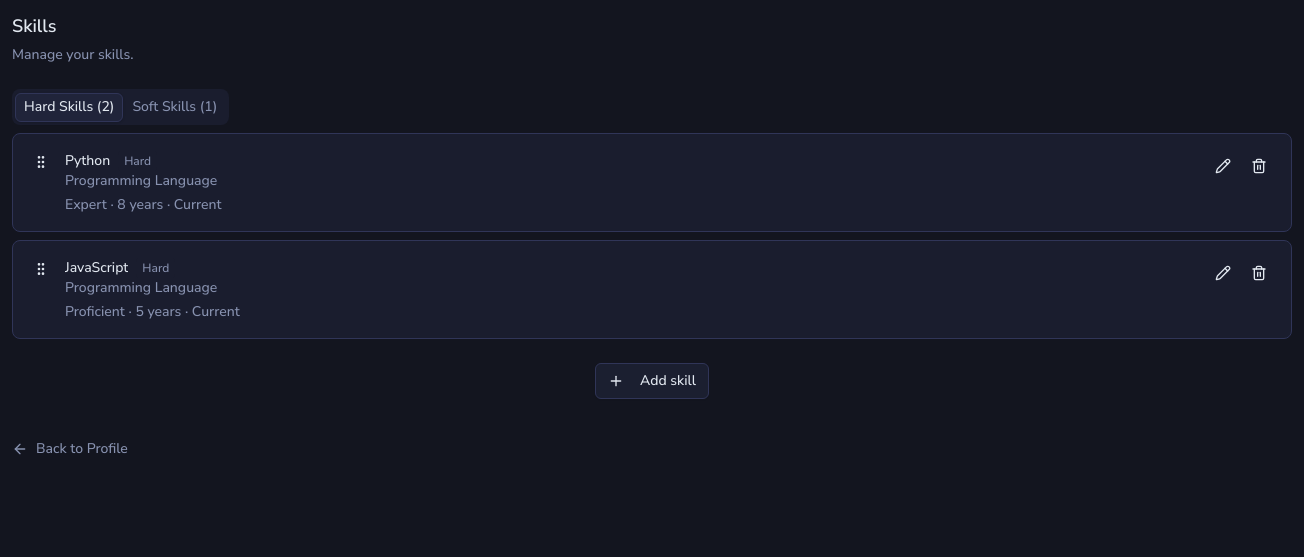
Test: SkillsEditor › add › returns to list on cancel
What coordinates should you click on to do the following:
click the button "Add skill"
I would click on:
 (652, 381)
Its box is [595, 363, 709, 399].
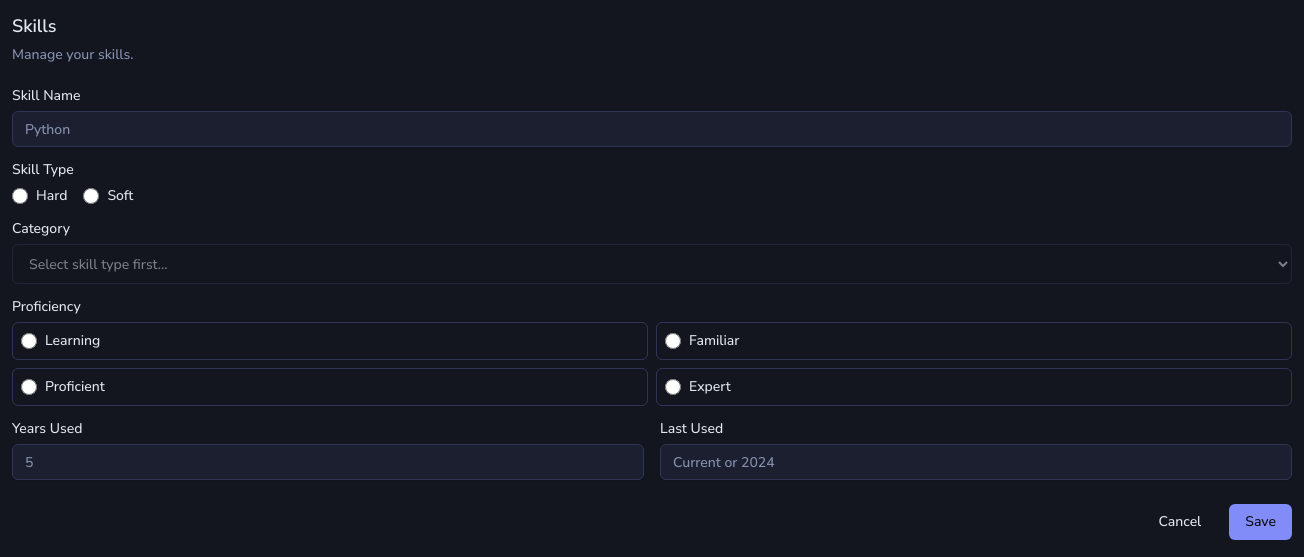
Expected: the element with test id "skills-form" is shown
What coordinates should you click on to do the following:
click the button "Cancel"
I would click on:
 (1180, 522)
Its box is [1143, 504, 1217, 540].
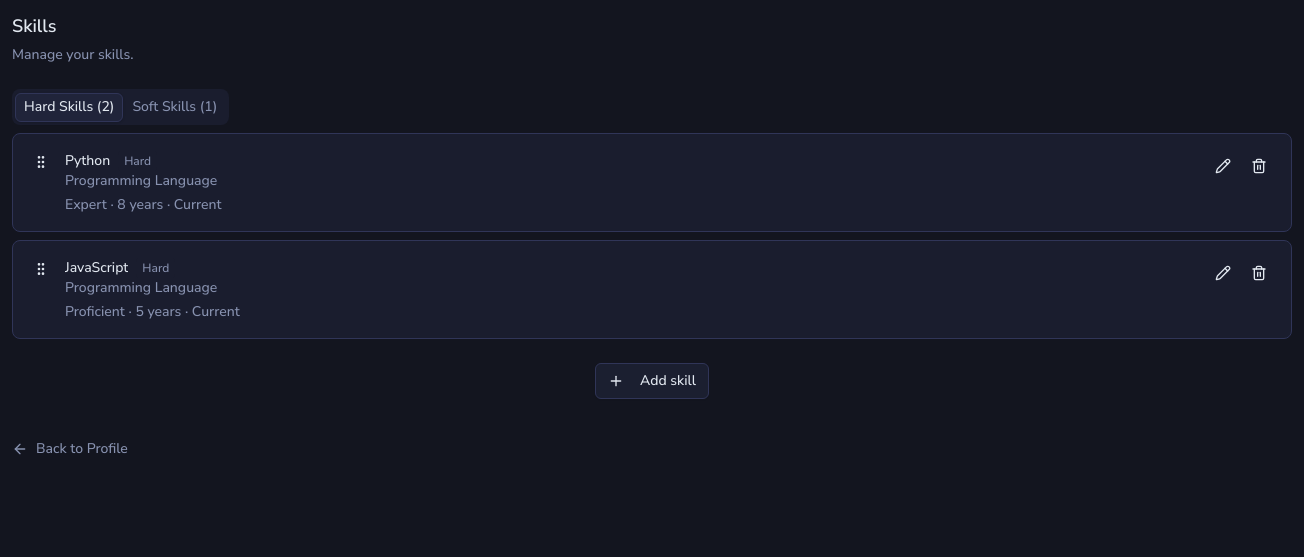
Expected: the element with test id "skills-form" is gone
Expected: the heading "Python" is shown, [65, 150, 110, 171]
